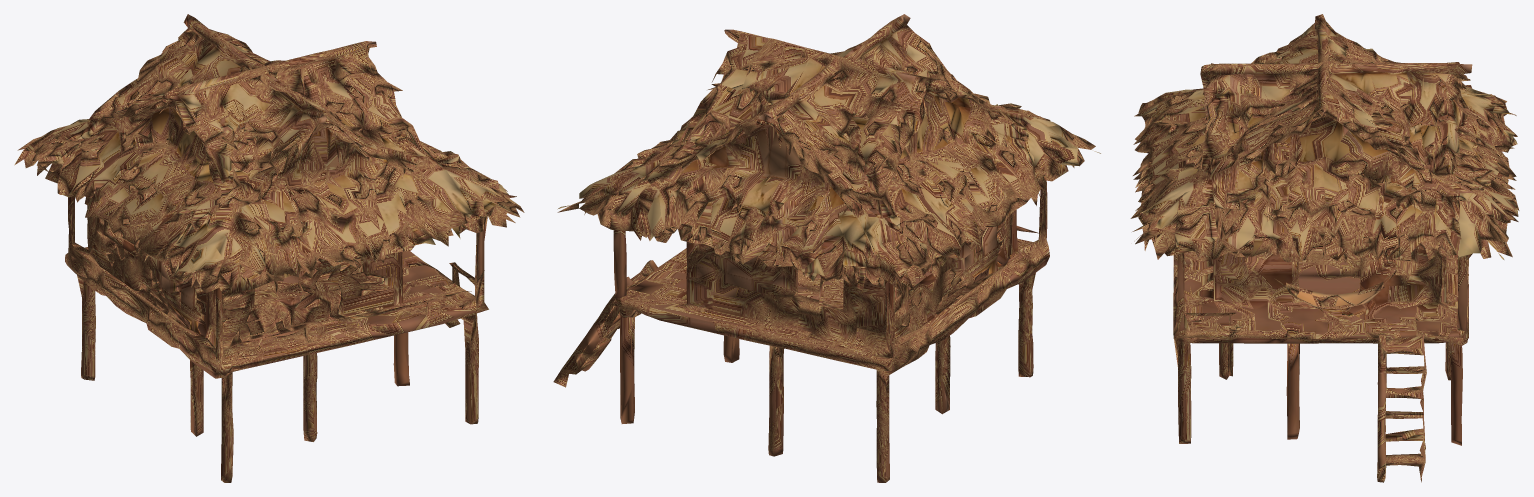
File: thatched+stilt+house+3d+model.glb
3 renders of one model, left to right at view 1: azimuth 30°, elevation 25°; view 2: azimuth 150°, elevation 25°; view 3: azimuth 270°, elevation 25°, orthographic. The views are drawn at different scales.
Visible parts, largest first — view 1: tripo_node_d5ce7746-80e5-4024-9522-17a0ae2f0b59; view 2: tripo_node_d5ce7746-80e5-4024-9522-17a0ae2f0b59; view 3: tripo_node_d5ce7746-80e5-4024-9522-17a0ae2f0b59.
Part boxes in pixels (box(x1,y1,x2,y2)): tripo_node_d5ce7746-80e5-4024-9522-17a0ae2f0b59: box(14, 14, 524, 482); tripo_node_d5ce7746-80e5-4024-9522-17a0ae2f0b59: box(553, 14, 1100, 482); tripo_node_d5ce7746-80e5-4024-9522-17a0ae2f0b59: box(1130, 14, 1519, 482).
Size of the model in its own units: 0.9776 by 0.8131 by 0.8904.
1 material, 1 textured.
